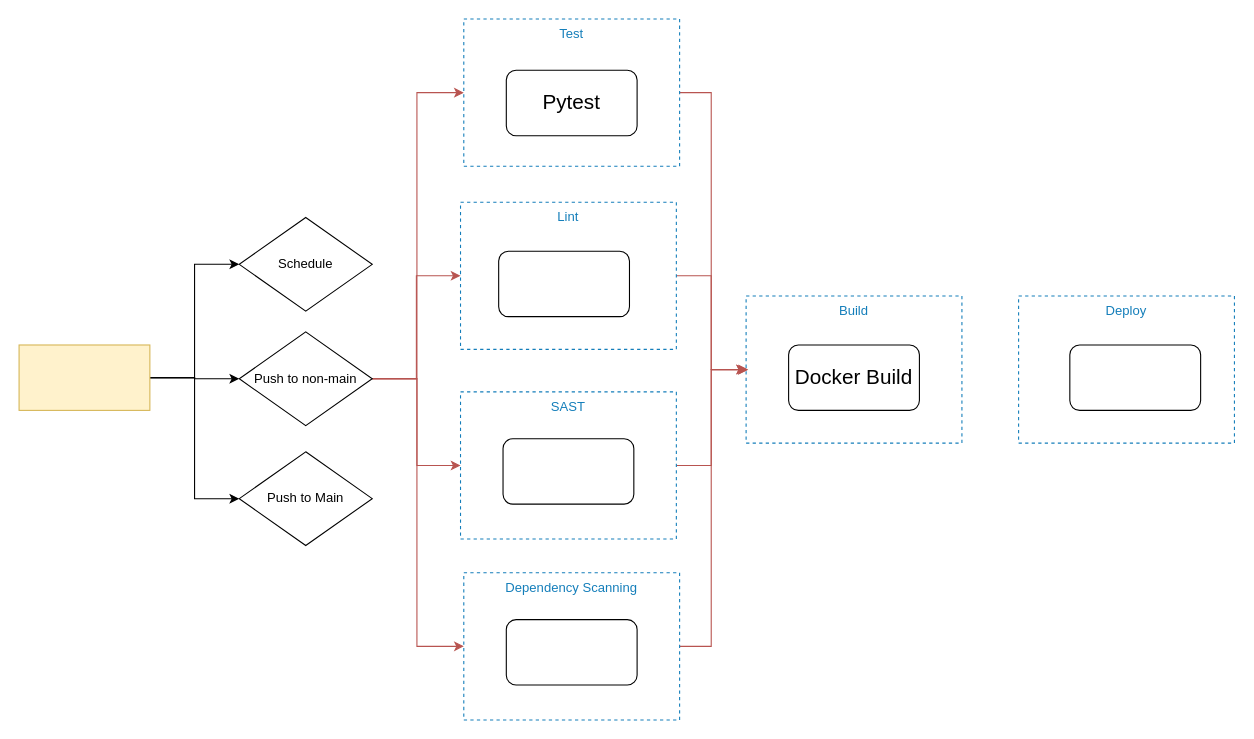
This 1254x739 diagram has some shape labels left out. The shapes that lost their labels are listed below. From the top down, each one's centre as x and y in pixels, then its label:
At (x=563, y=283): "Pylint".
At (x=84, y=377): "GitHub Actions".
At (x=1135, y=377): "Docker Build + Push".
At (x=568, y=471): "CodeQL".
At (x=571, y=652): "PyUp".
